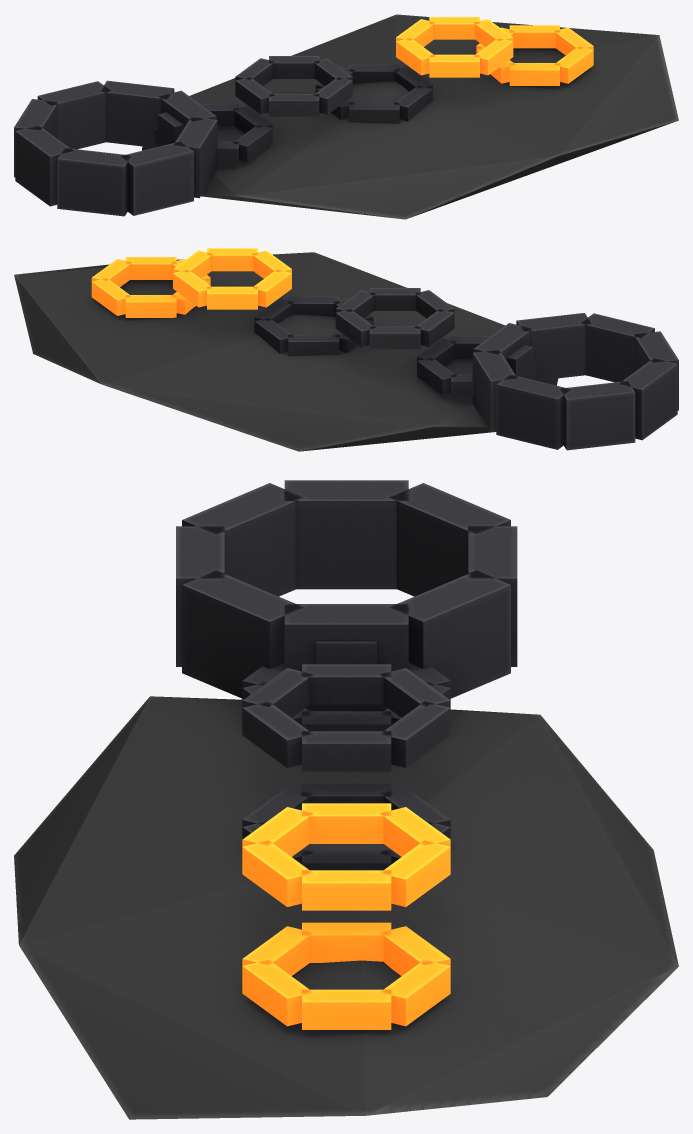
The model's file is sign_vessel_chain.glb.
3 views of the same model, one above another, from view 1: azimuth 30°, elevation 25°; view 2: azimuth 150°, elevation 25°; view 3: azimuth 270°, elevation 25° (orthographic). The views are drawn at different scales.
Visible parts, largest first — view 1: sign_vessel_chain; view 2: sign_vessel_chain; view 3: sign_vessel_chain.
Part boxes in pixels (x1,y1,x2,y2): sign_vessel_chain: (14, 14, 678, 219); sign_vessel_chain: (14, 248, 678, 451); sign_vessel_chain: (14, 480, 678, 1119).
Size of the model in its own units: 2.13 by 0.2978 by 1.09.
1 material, 1 textured.
